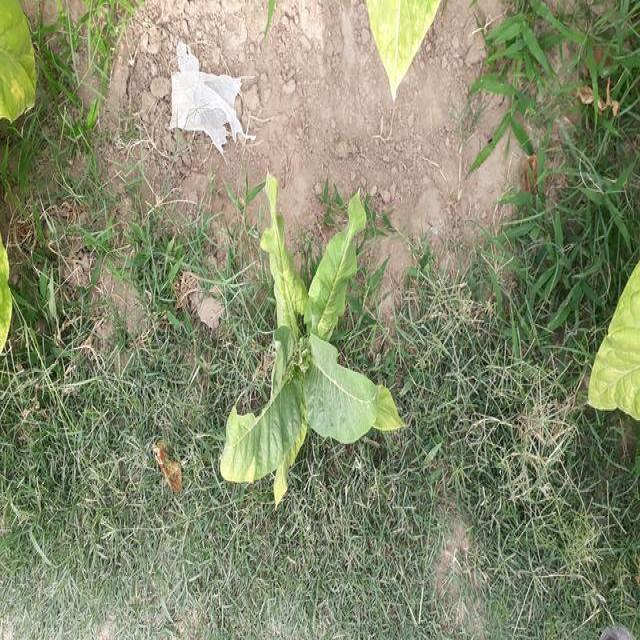crop: (222, 188, 407, 503), (367, 0, 448, 98)
